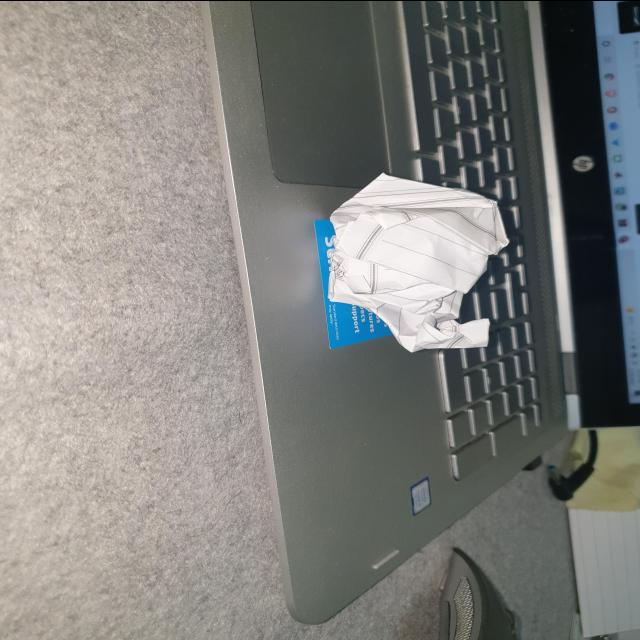kertas: (322, 164, 518, 366)
